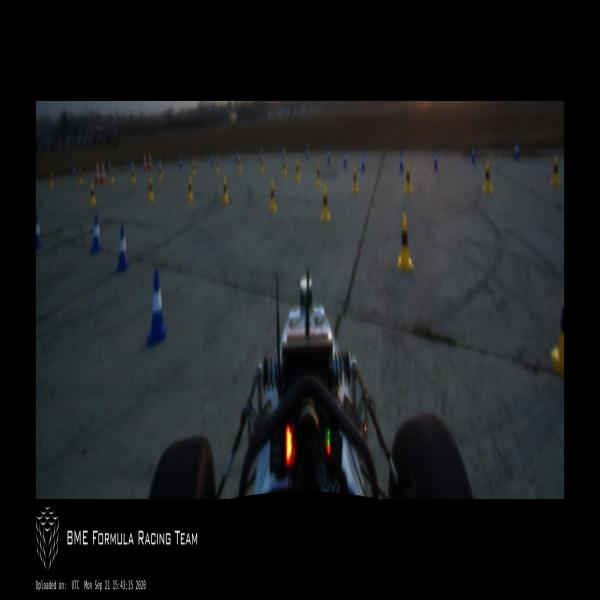blue_cone: (146, 269, 167, 347), (115, 224, 131, 270), (90, 214, 102, 252), (36, 215, 43, 249), (432, 147, 438, 170), (514, 140, 520, 160), (399, 150, 404, 173), (471, 143, 476, 166), (343, 150, 348, 170), (362, 152, 366, 173), (326, 148, 330, 164), (72, 164, 76, 177), (235, 150, 238, 163), (179, 158, 182, 170), (130, 158, 133, 170), (306, 147, 308, 160), (108, 159, 110, 172), (212, 154, 214, 166), (158, 159, 160, 171), (260, 149, 262, 160), (282, 150, 284, 160)
large_orange_cone: (100, 158, 106, 184), (95, 158, 100, 184), (142, 150, 147, 173), (148, 150, 152, 172)
yellow_cone: (551, 282, 564, 376), (398, 215, 413, 270), (550, 156, 561, 187), (482, 161, 492, 194), (321, 188, 330, 222), (222, 177, 230, 205), (405, 164, 412, 195), (269, 182, 276, 212), (88, 182, 95, 208), (352, 168, 358, 194), (187, 176, 193, 202), (315, 162, 321, 187), (148, 179, 154, 202), (295, 162, 300, 182), (282, 158, 287, 178), (215, 158, 220, 175), (238, 153, 242, 173), (49, 172, 54, 188), (78, 170, 83, 186), (131, 167, 135, 186), (260, 156, 264, 173), (110, 167, 114, 184), (159, 165, 162, 182), (192, 160, 195, 176)
